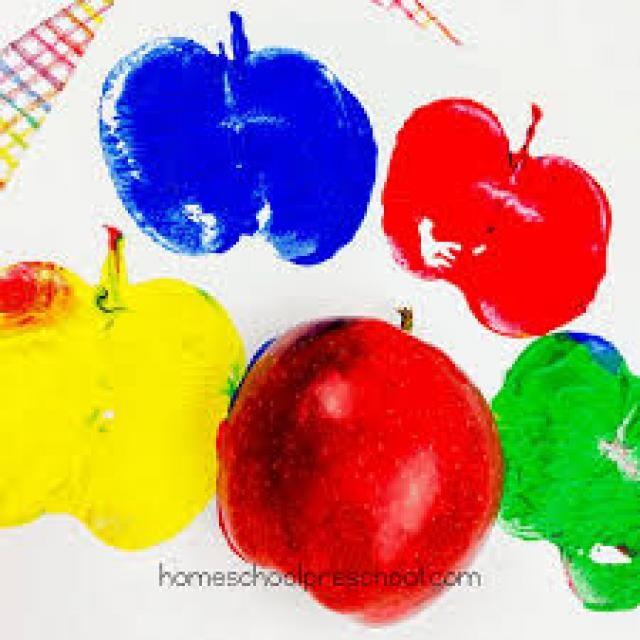Apple: (216, 311, 502, 619)
